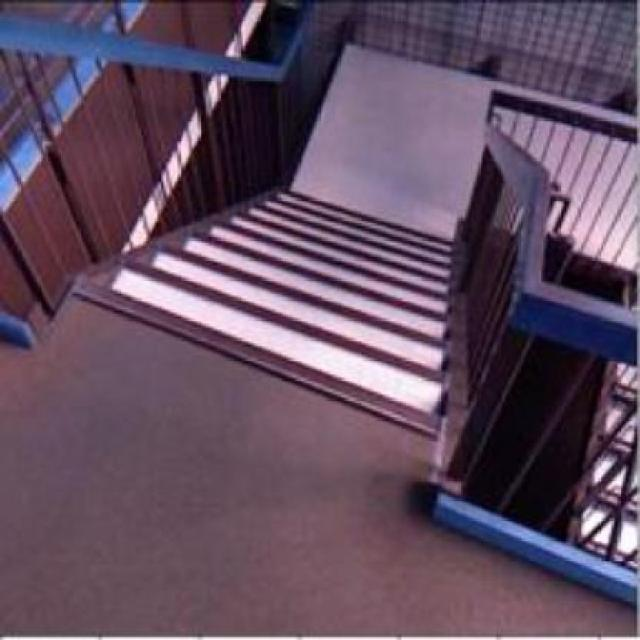stair: (92, 176, 474, 442)
